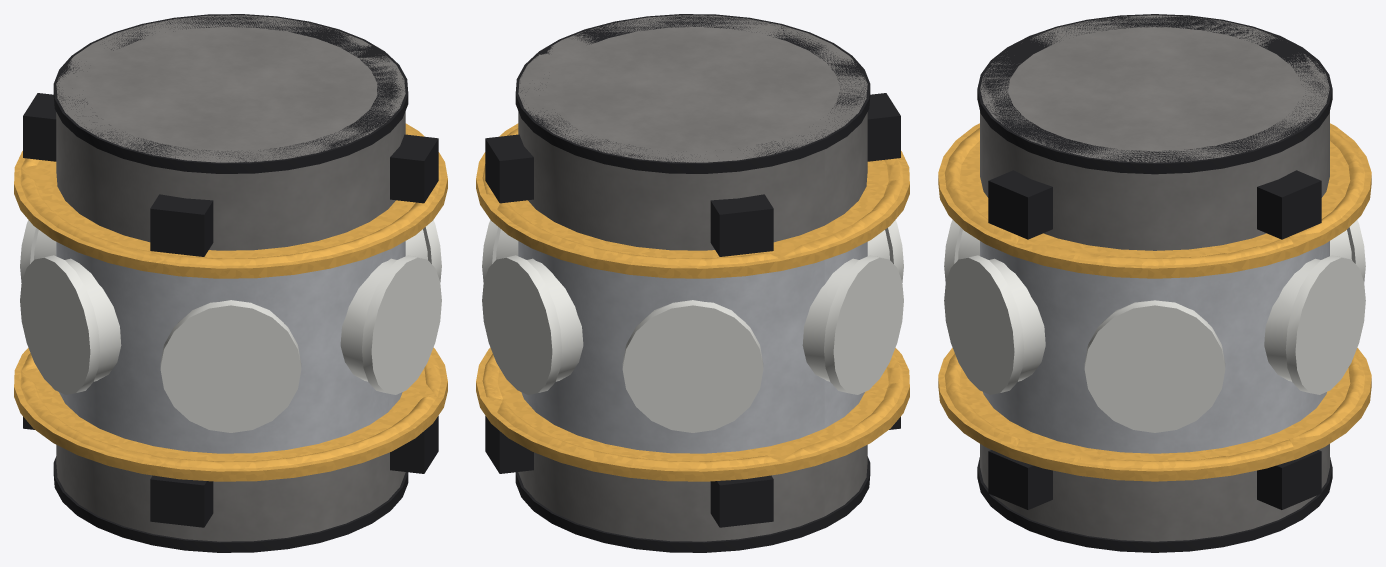
The model's file is station09_spin_hub.glb.
3 views of the same model, side by side, from view 1: azimuth 30°, elevation 25°; view 2: azimuth 150°, elevation 25°; view 3: azimuth 270°, elevation 25° (orthographic).
Parts seen in each view (by area): view 1: stator_upper, spoke_ports, bearings_sliprings, rotor_drum, stator_lower, end_rings, spin_motors; view 2: stator_upper, spoke_ports, bearings_sliprings, rotor_drum, stator_lower, end_rings, spin_motors; view 3: stator_upper, spoke_ports, bearings_sliprings, rotor_drum, end_rings, stator_lower, spin_motors.
Boxes of the visible parts, <box> form: stator_upper: <box>56,15,405,250</box>; spoke_ports: <box>20,220,441,432</box>; bearings_sliprings: <box>14,123,447,481</box>; rotor_drum: <box>56,241,405,453</box>; stator_lower: <box>56,445,405,541</box>; end_rings: <box>53,14,408,552</box>; spin_motors: <box>23,93,438,527</box>; stator_upper: <box>518,15,867,250</box>; spoke_ports: <box>482,220,903,432</box>; bearings_sliprings: <box>476,123,909,481</box>; rotor_drum: <box>518,241,867,453</box>; stator_lower: <box>518,445,867,541</box>; end_rings: <box>515,14,870,552</box>; spin_motors: <box>485,93,900,527</box>; stator_upper: <box>980,15,1329,250</box>; spoke_ports: <box>944,219,1365,432</box>; bearings_sliprings: <box>938,123,1371,481</box>; rotor_drum: <box>980,241,1329,453</box>; end_rings: <box>977,14,1332,552</box>; stator_lower: <box>980,444,1329,541</box>; spin_motors: <box>988,170,1321,509</box>.
Size of the model in its own units: 4.65 by 4.6 by 4.65.
Materials: 5 (3 with a texture image).
